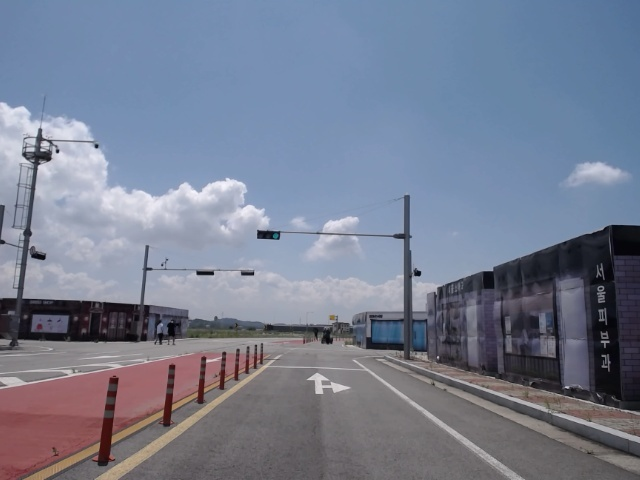green_3: (257, 231, 279, 240)
